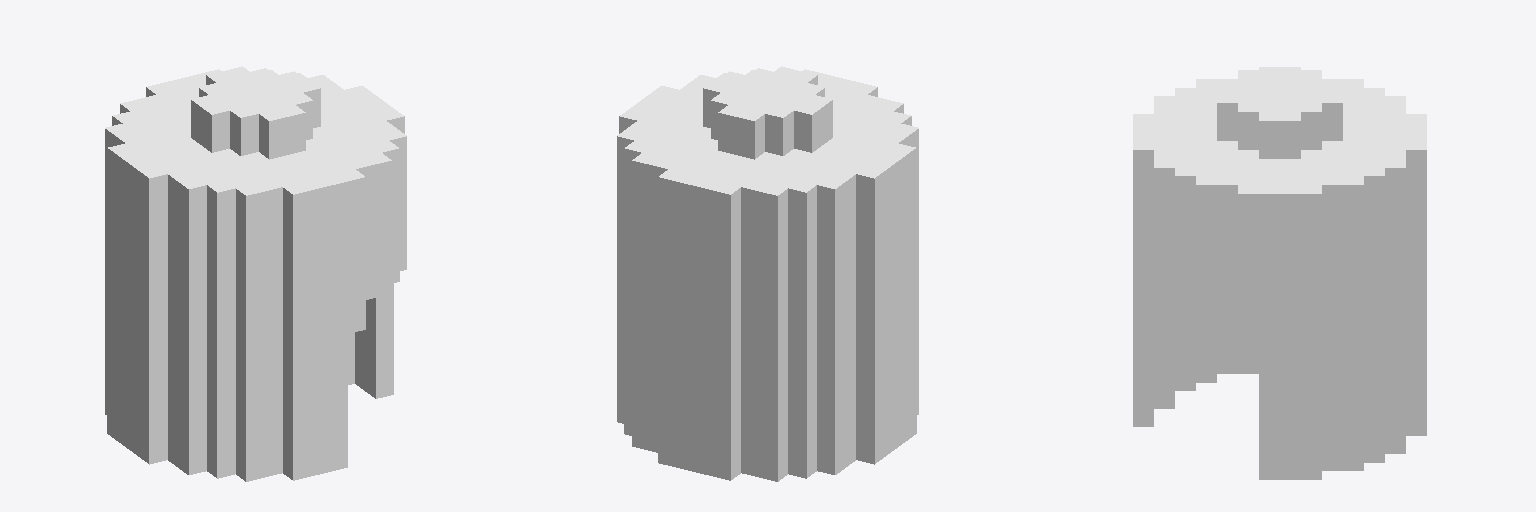
Rendered from BATTERY.obj.
The picture shows the model from 3 angles: view 1: azimuth 30°, elevation 25°; view 2: azimuth 150°, elevation 25°; view 3: azimuth 270°, elevation 25°; orthographic projection.
Visible parts, largest first — view 1: BATTERY; view 2: BATTERY; view 3: BATTERY.
Boxes of the visible parts, x1,y1,x2,y2 form: BATTERY: [105, 66, 406, 481]; BATTERY: [617, 66, 918, 481]; BATTERY: [1133, 67, 1426, 479].
Size of the model in its own units: 14 by 17 by 14.